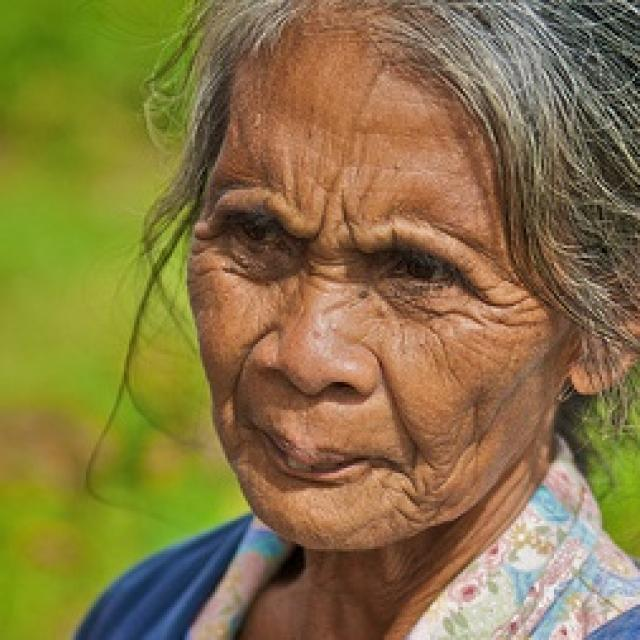Depress: (185, 7, 567, 558)
